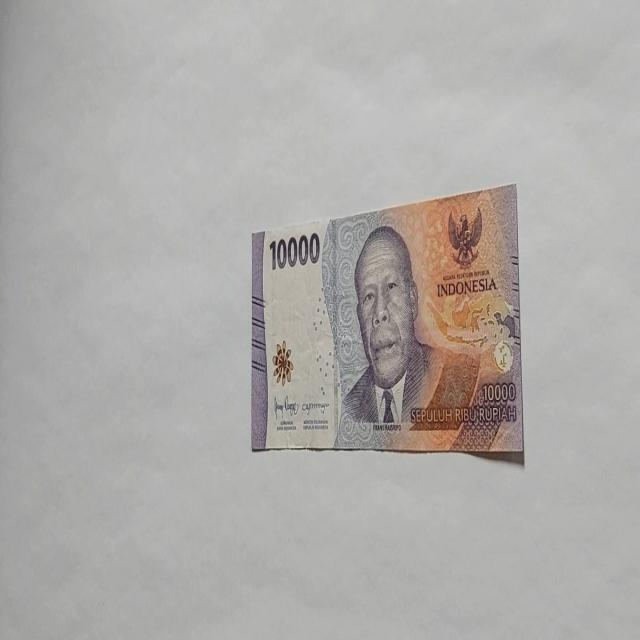sepuluh ribu rupiah: (250, 182, 524, 460)
